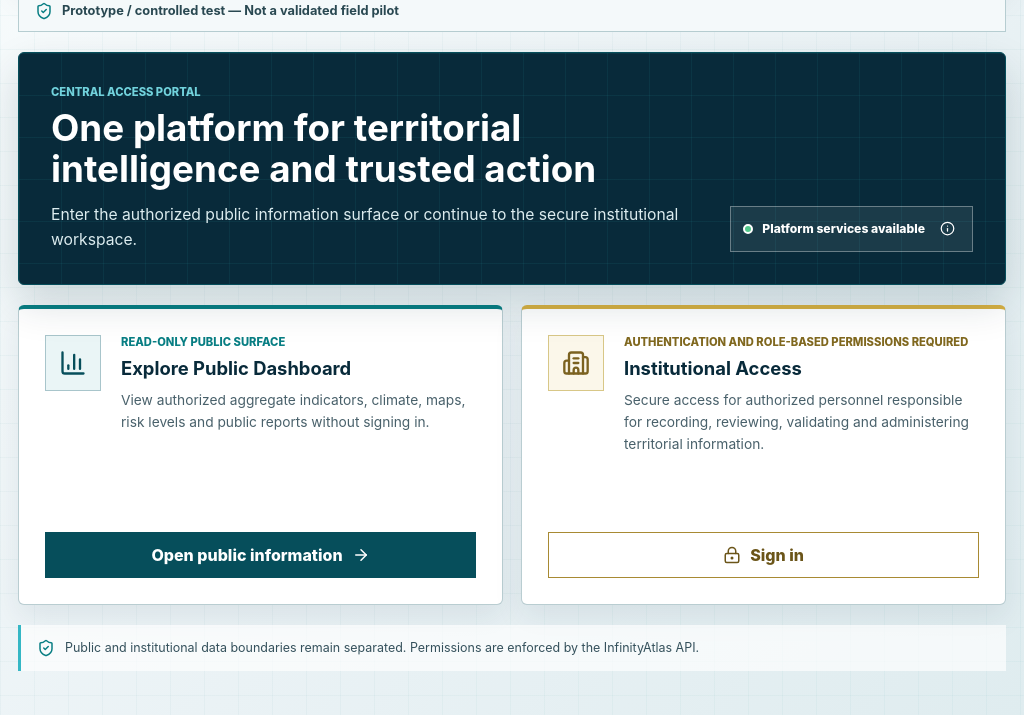
Test case: Sprint 1B application › shows a backend-calculated role overview without replacing role workflows
(page scrolled)
Click the button "Sign in". click: (764, 555)
box: [548, 532, 979, 578]
(page scrolled)
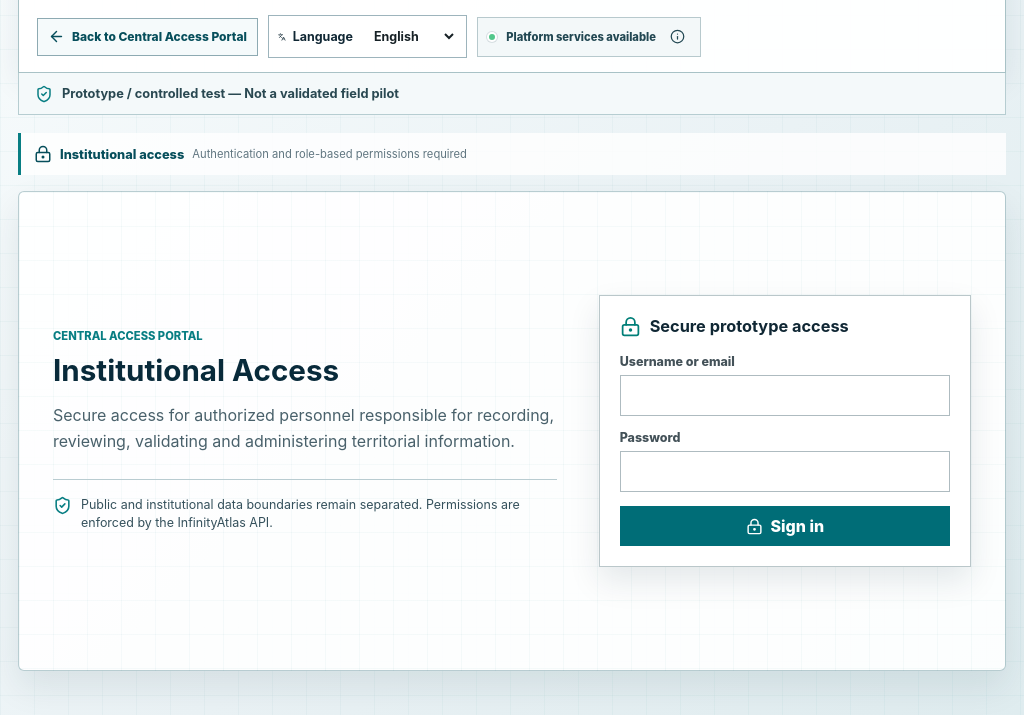
expect the field labelled "Username or email" is shown: met
Type "demo-monitor" into the field labelled "Username or email". click: (785, 396)
box: [620, 375, 950, 416]
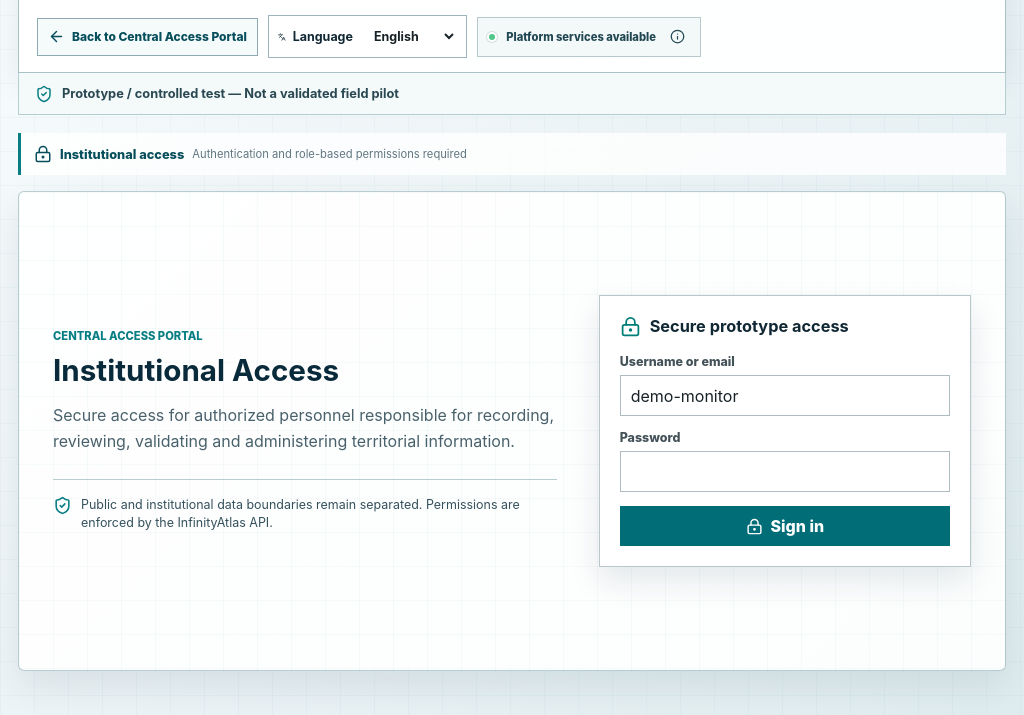
Type "local-password" into the password field labelled "Password". click: (785, 472)
box: [620, 451, 950, 492]
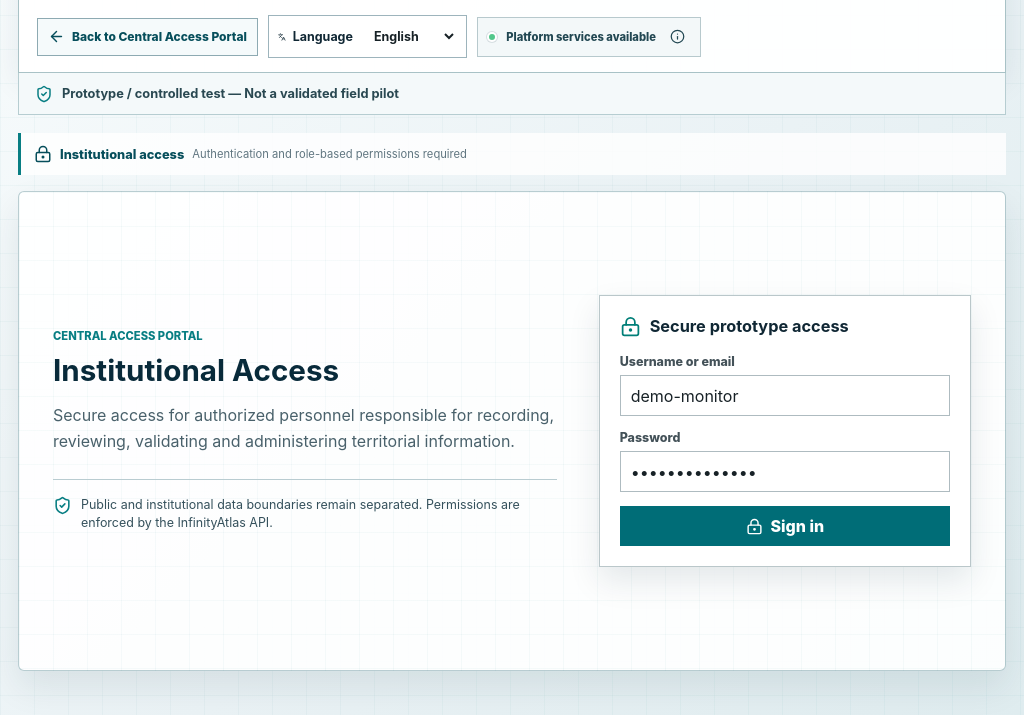
Click the button "Sign in". click: (785, 526)
box: [620, 506, 950, 546]
(page scrolled)
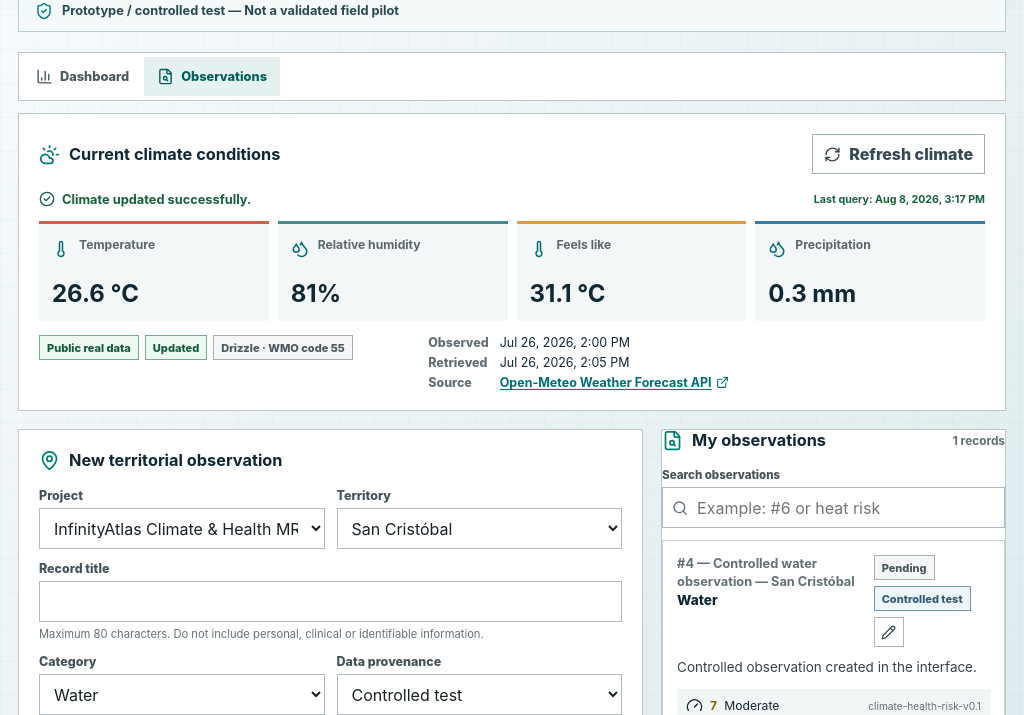
Click the button "Dashboard". click: (83, 77)
box: [23, 57, 142, 96]
(page scrolled)
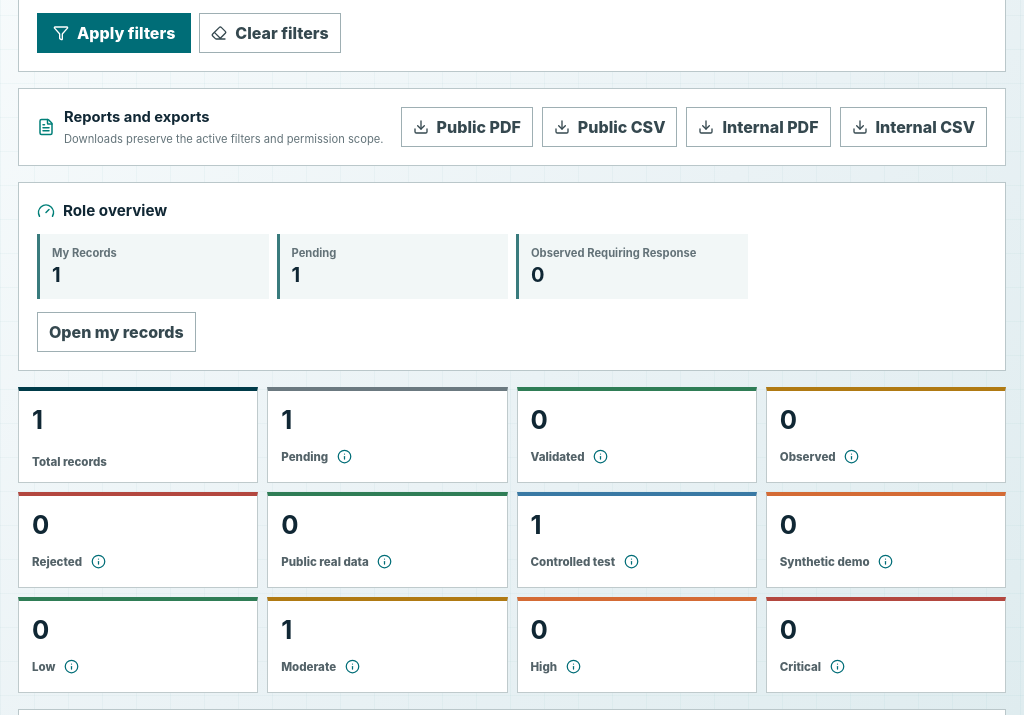
expect the heading "Role overview" is shown: met, box [63, 201, 167, 221]
expect the text "My records" is shown: met, box [52, 246, 117, 260]
expect the button "Open my records" is shown: met, box [37, 312, 196, 352]
